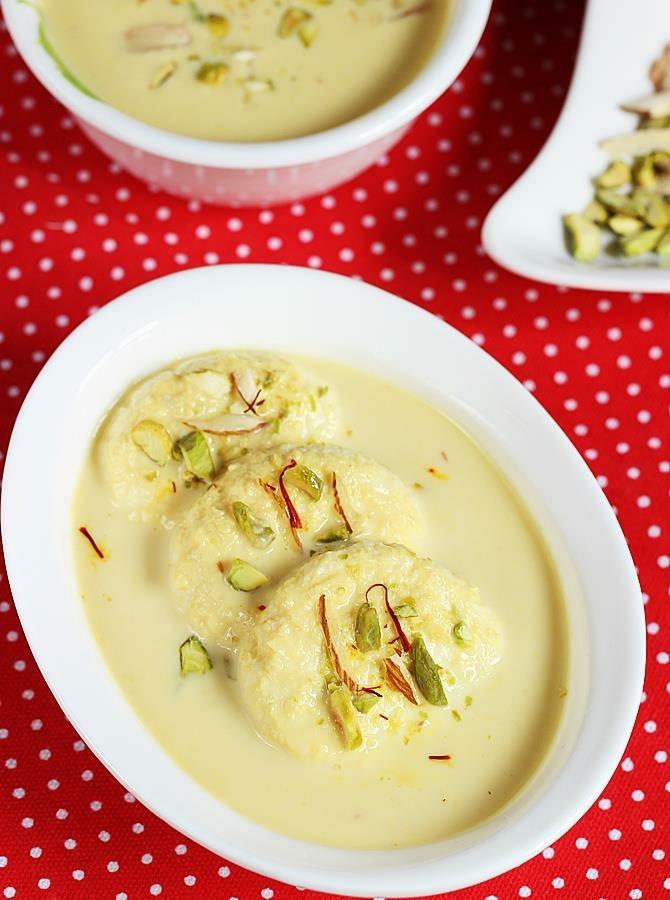RasMalai: (69, 342, 569, 838)
